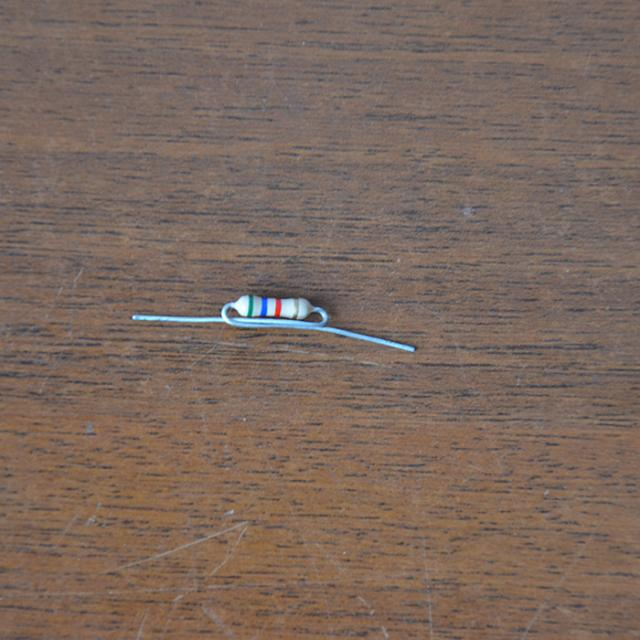blue: (261, 298, 267, 315)
gold: (293, 298, 299, 317)
green: (248, 296, 252, 315)
red: (275, 299, 281, 315)
resistor: (227, 287, 321, 328)
